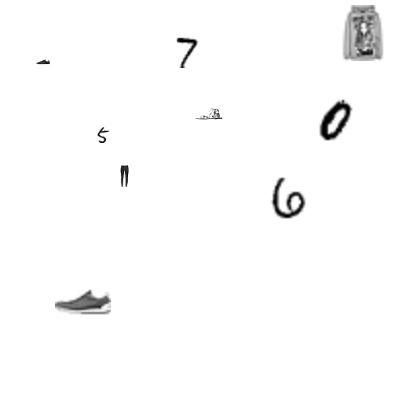0: (306, 92, 362, 148)
5: (91, 124, 113, 146)
6: (257, 174, 313, 230)
7: (165, 26, 207, 68)
Pullover: (335, 5, 391, 61)
Sandal: (195, 100, 223, 128)
Sneaker: (55, 274, 111, 330), (36, 55, 50, 69)
Trouser: (113, 165, 135, 187)
